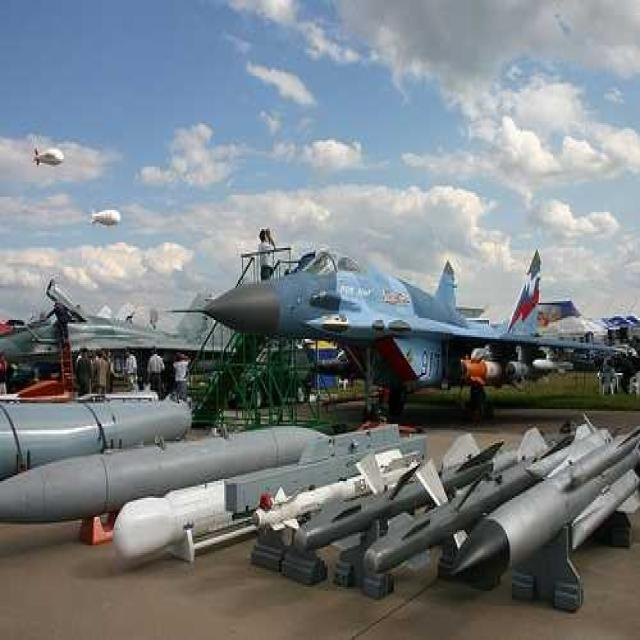missile: (0, 418, 325, 521), (368, 433, 570, 575), (450, 425, 635, 575), (293, 437, 518, 546), (0, 394, 195, 456)
